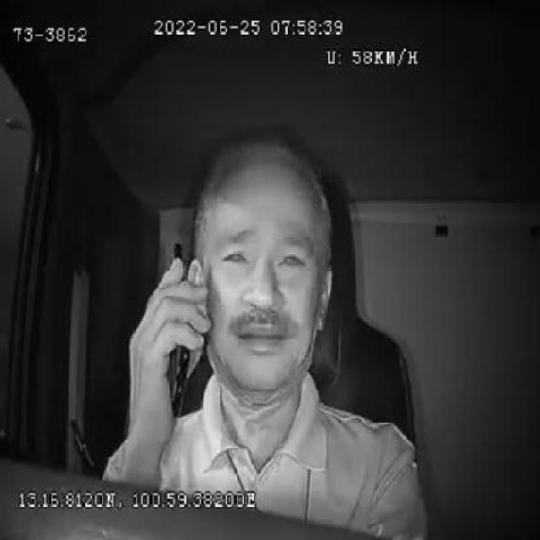phone: (161, 236, 195, 422)
